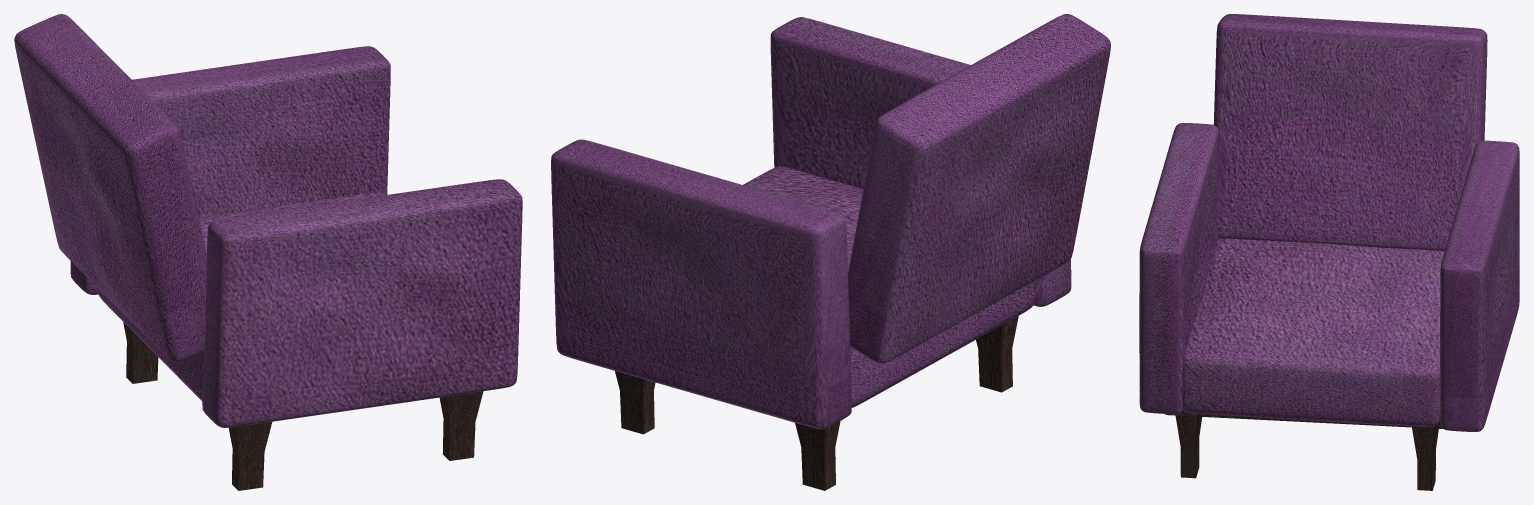
File: Sofa for living room.fbx
3 views of the same model, side by side, from view 1: azimuth 30°, elevation 25°; view 2: azimuth 150°, elevation 25°; view 3: azimuth 270°, elevation 25° (orthographic). The views are drawn at different scales.
Visible parts, largest first — view 1: polySurface471, polySurface463, polySurface464, polySurface466; view 2: polySurface471, polySurface466, polySurface464, polySurface467; view 3: polySurface471, polySurface463, polySurface467, polySurface465.
Boxes of the visible parts, bbox=[...] form: polySurface471: bbox=[14, 14, 522, 427]; polySurface463: bbox=[439, 391, 483, 460]; polySurface464: bbox=[228, 422, 272, 490]; polySurface466: bbox=[123, 322, 158, 383]; polySurface471: bbox=[551, 14, 1110, 429]; polySurface466: bbox=[795, 421, 840, 490]; polySurface464: bbox=[976, 316, 1018, 392]; polySurface467: bbox=[615, 371, 655, 434]; polySurface471: bbox=[1139, 14, 1519, 431]; polySurface463: bbox=[1175, 415, 1201, 478]; polySurface467: bbox=[1412, 427, 1438, 490]; polySurface465: bbox=[1165, 410, 1442, 428].
Bounding box in the file's own units: 121 × 113 × 115.
